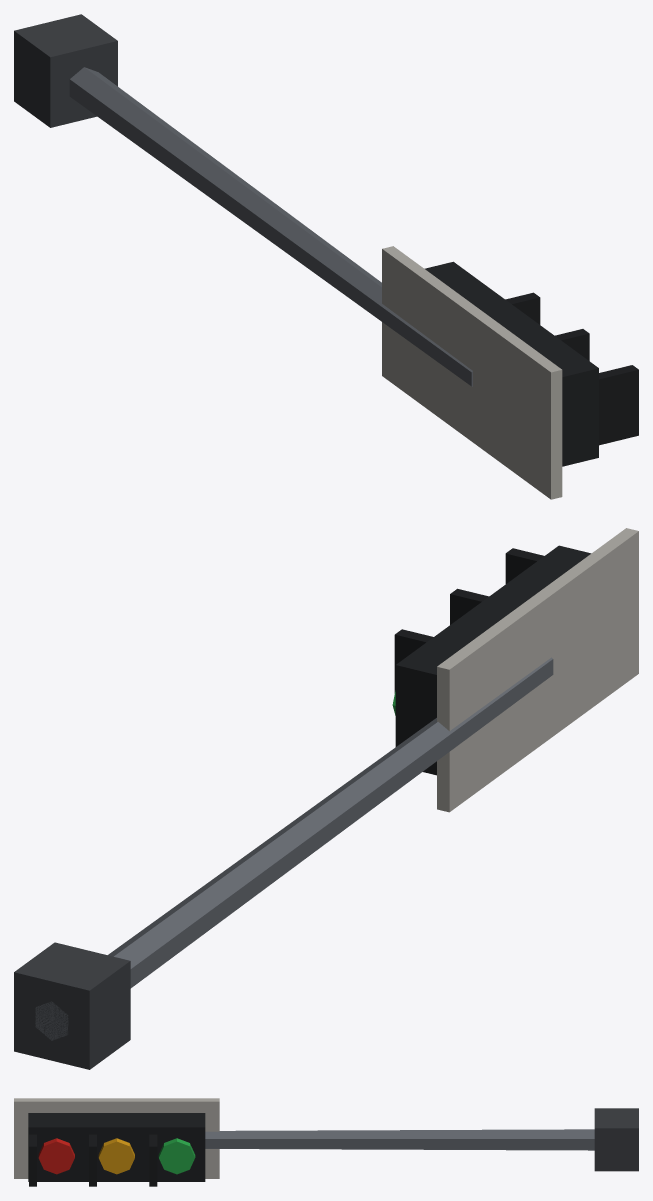
File: traffic-signal.glb
The picture shows the model from 3 angles, top to bottom: view 1: azimuth 30°, elevation 25°; view 2: azimuth 150°, elevation 25°; view 3: azimuth 270°, elevation 25°; orthographic projection. The views are drawn at different scales.
Visible parts, largest first — view 1: traffic-signal; view 2: traffic-signal; view 3: traffic-signal.
Part boxes in pixels (left/top/right/bottom): traffic-signal: left=14, top=14, right=638, bottom=499; traffic-signal: left=14, top=528, right=638, bottom=1069; traffic-signal: left=14, top=1098, right=638, bottom=1186.
Bounding box in the file's own units: 0.55 × 0.54 × 3.95.
